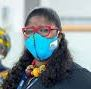with_facemask: (22, 34, 59, 62)
